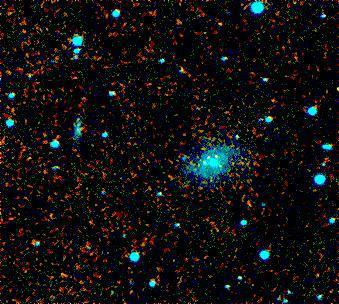star: (207, 6, 237, 36)
